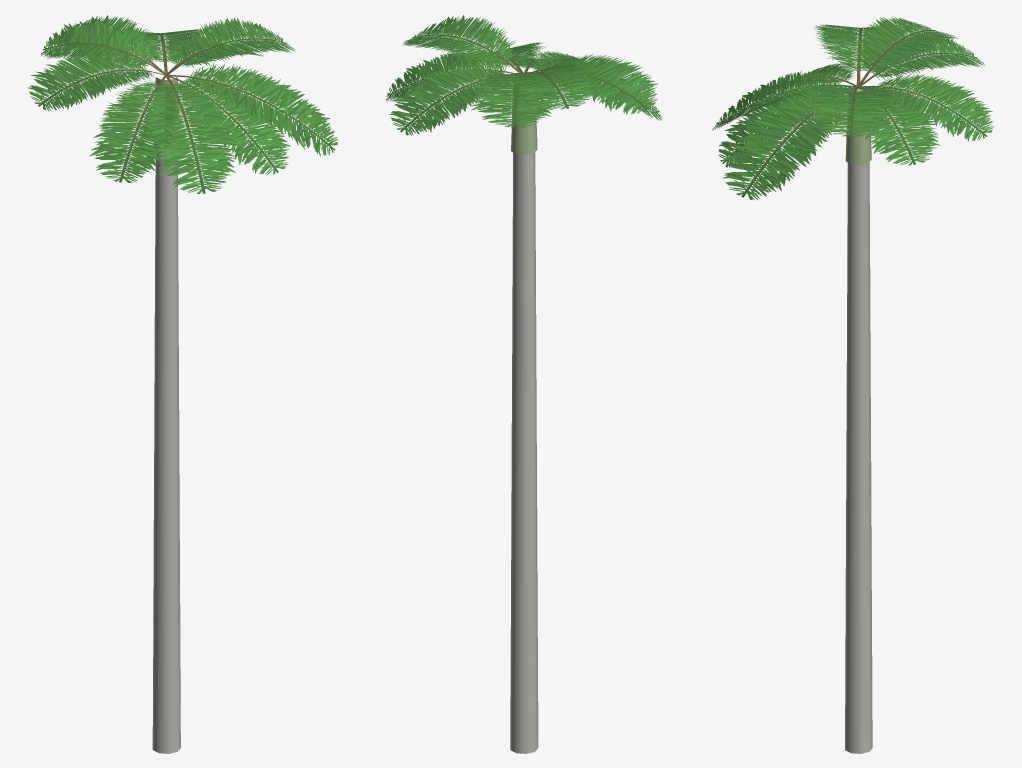
Rendered from wodyetia-bifurcata.glb.
The picture shows the model from 3 angles, left to right: view 1: azimuth 30°, elevation 25°; view 2: azimuth 150°, elevation 25°; view 3: azimuth 270°, elevation 25°; orthographic projection.
Visible parts, largest first — view 1: fronde, estipe; view 2: fronde, estipe, palmito; view 3: fronde, estipe, palmito.
Boxes of the visible parts, x1,y1,x2,y2 form: fronde: [27, 15, 337, 193]; estipe: [152, 154, 180, 753]; fronde: [386, 15, 662, 135]; estipe: [510, 152, 538, 753]; palmito: [511, 83, 537, 154]; fronde: [712, 17, 993, 200]; estipe: [845, 162, 872, 753]; palmito: [845, 91, 871, 164].
Size of the model in its own units: 3.99 by 10 by 4.
3 materials, 1 textured.
